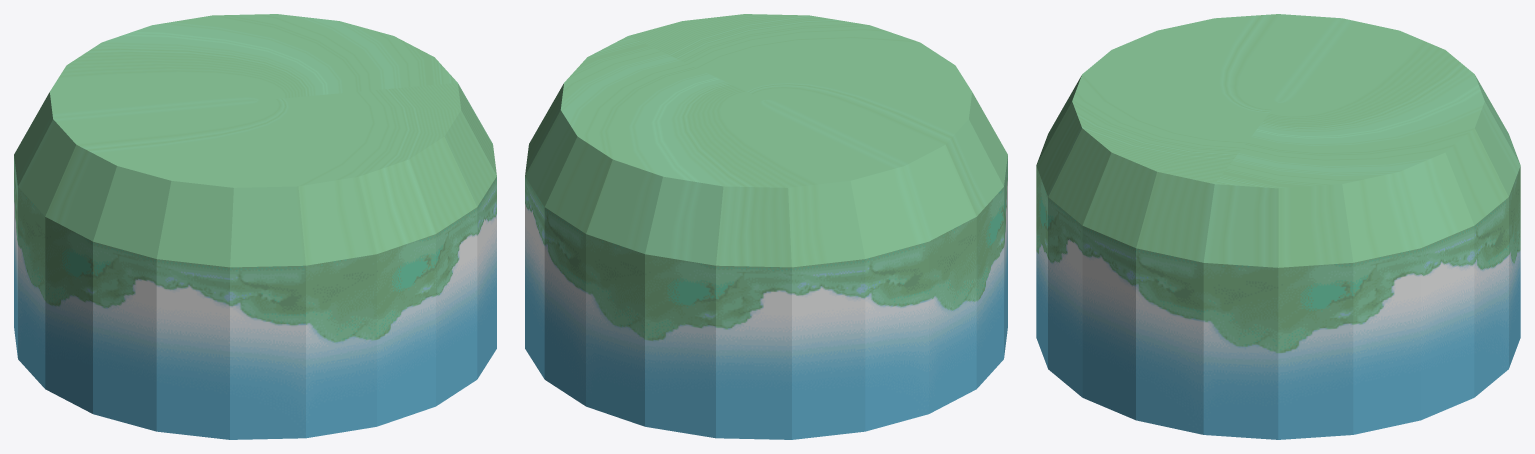
File: skybox.obj
3 views of the same model, side by side, from view 1: azimuth 30°, elevation 25°; view 2: azimuth 150°, elevation 25°; view 3: azimuth 270°, elevation 25° (orthographic).
Parts seen in each view (by area): view 1: sky_g_0_p_0, sky_g_0_p_2, sky_g_0_p_1; view 2: sky_g_0_p_0, sky_g_0_p_1, sky_g_0_p_2, sky_g_0_p_3; view 3: sky_g_0_p_1, sky_g_0_p_2, sky_g_0_p_0, sky_g_0_p_3.
Part boxes in pixels (<box>): sky_g_0_p_0: <box>14,156,496,439</box>; sky_g_0_p_2: <box>14,14,496,267</box>; sky_g_0_p_1: <box>50,14,461,187</box>; sky_g_0_p_0: <box>586,156,1007,439</box>; sky_g_0_p_1: <box>525,14,971,406</box>; sky_g_0_p_2: <box>560,36,1007,267</box>; sky_g_0_p_3: <box>525,83,791,267</box>; sky_g_0_p_1: <box>1072,14,1508,439</box>; sky_g_0_p_2: <box>1036,75,1444,439</box>; sky_g_0_p_0: <box>1036,166,1520,434</box>; sky_g_0_p_3: <box>1342,75,1520,262</box>.
Size of the model in its own units: 14157 by 7708 by 14157.
